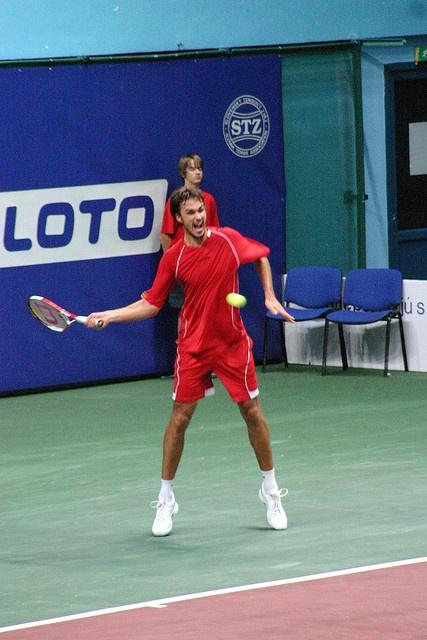Kursi: (320, 267, 408, 378), (259, 264, 342, 375)
